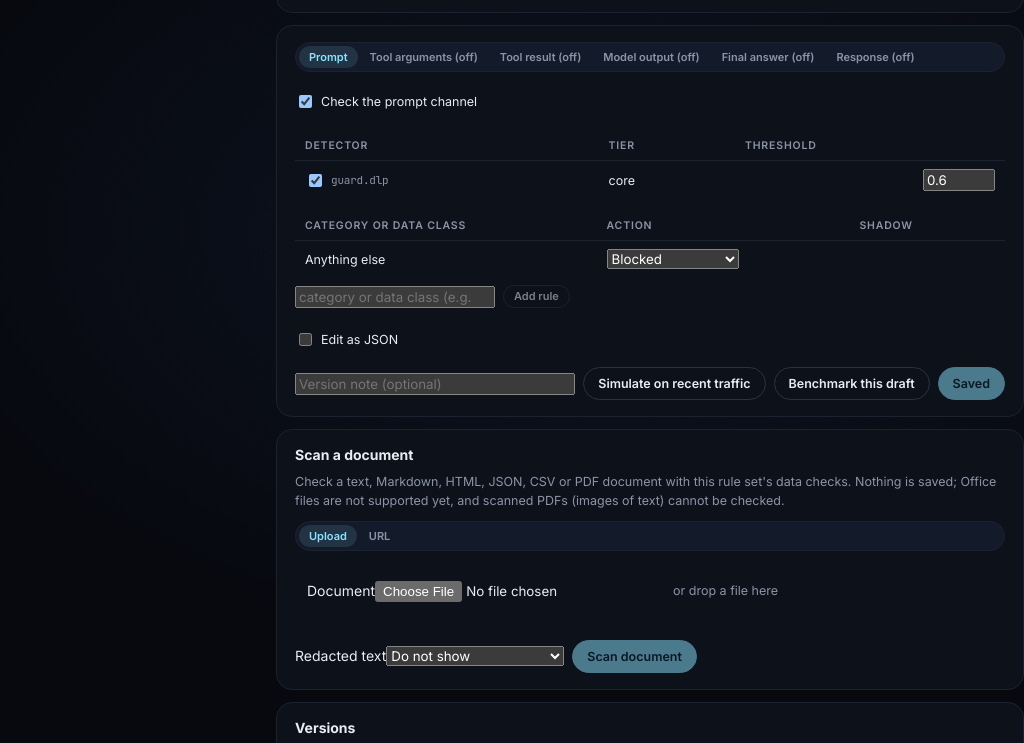
Benchmark this draft › benchmarks the editor's unsaved document and shows the result next to the latest stored one
The width and height of the screenshot is (1024, 743).
(page scrolled)
Step 1. Click the button "Benchmark this draft" → {"x": 852, "y": 384}, box [774,367,930,400]
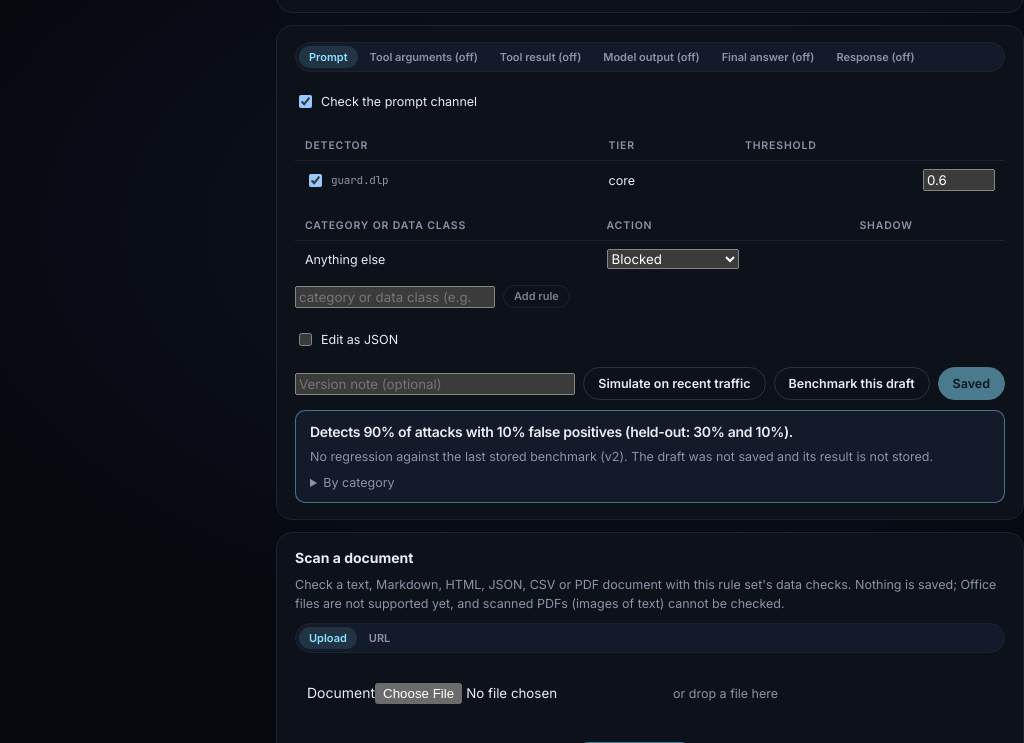
Expected: the element with test id "guard-bench-draft" shows "Detects 90% of attacks with 10% false positives (held-out: 30% and 10%).", [295,410,1005,503]
Expected: the element with test id "guard-bench-draft" shows "No regression against the last stored benchmark (v2). The draft was not saved and its result is not stored.", [295,410,1005,503]
